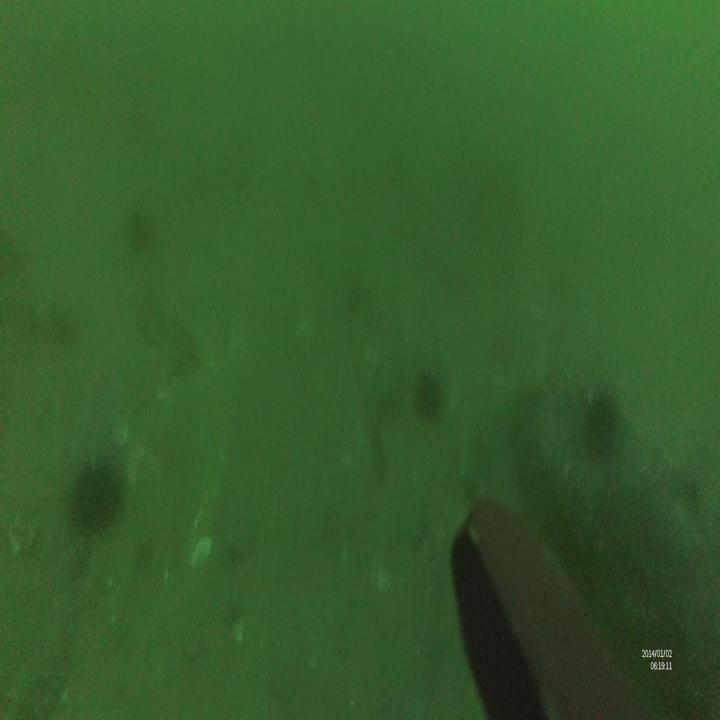echinus: (68, 454, 119, 529), (583, 386, 619, 463), (414, 369, 444, 426)
